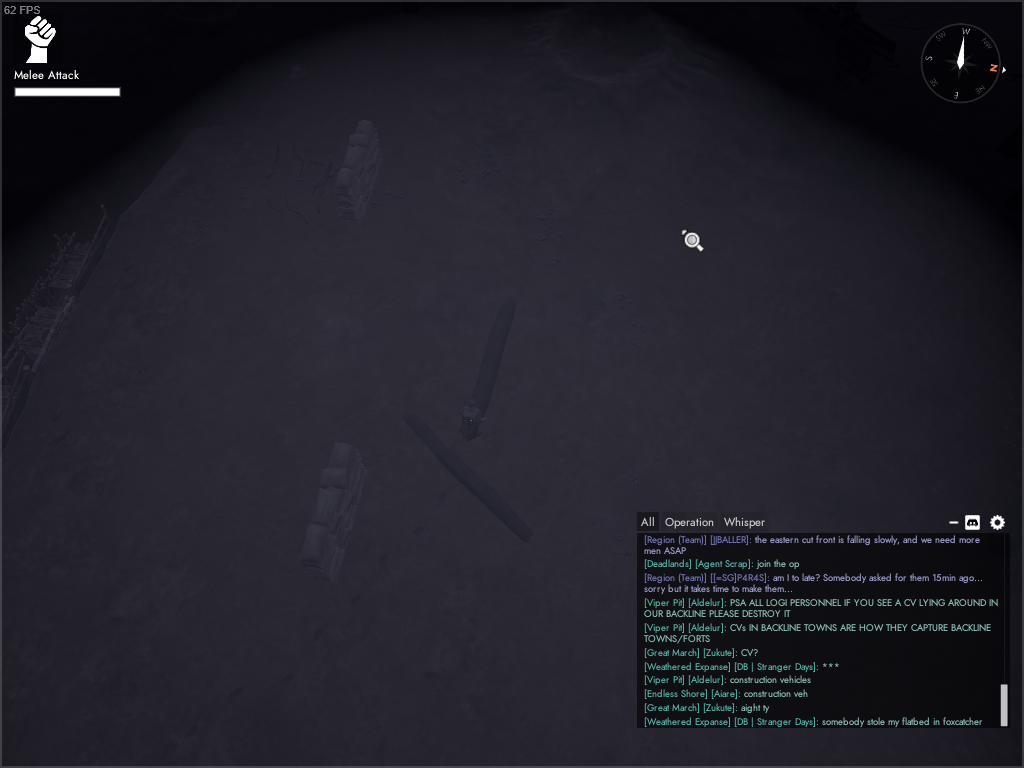player: (458, 400, 488, 444)
sandbag: (300, 441, 370, 582), (333, 118, 384, 223)
